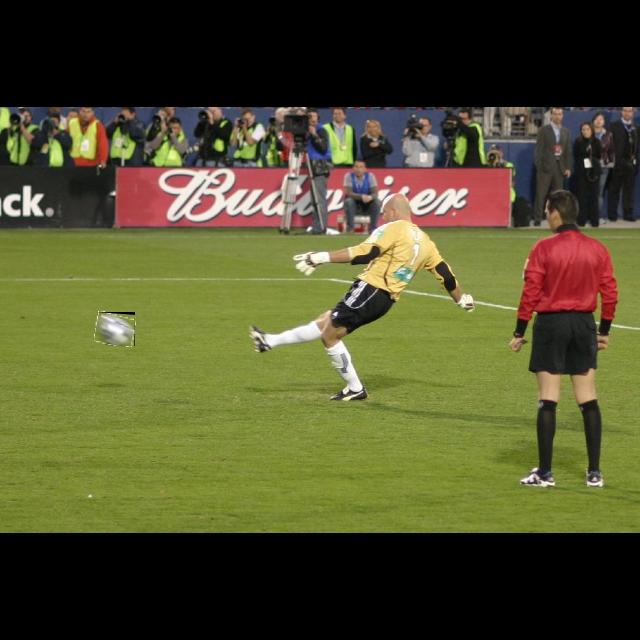Football: (95, 312, 135, 346)
